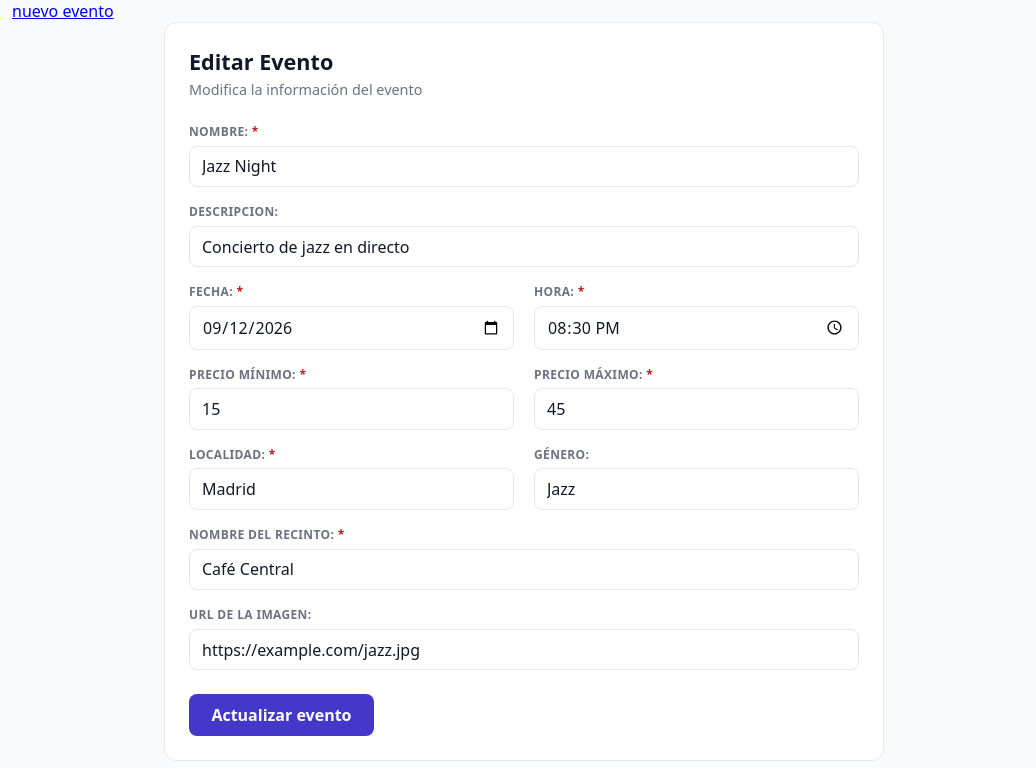
EventForm › edit mode (route with :id) › submits the changes through updateEventById, never createEvent, and keeps the values
This screenshot has width=1036, height=768.
Replace the text in the field labelled "Nombre:" with "Jazz Night XL". click: (524, 166)
box: [189,146,859,187]
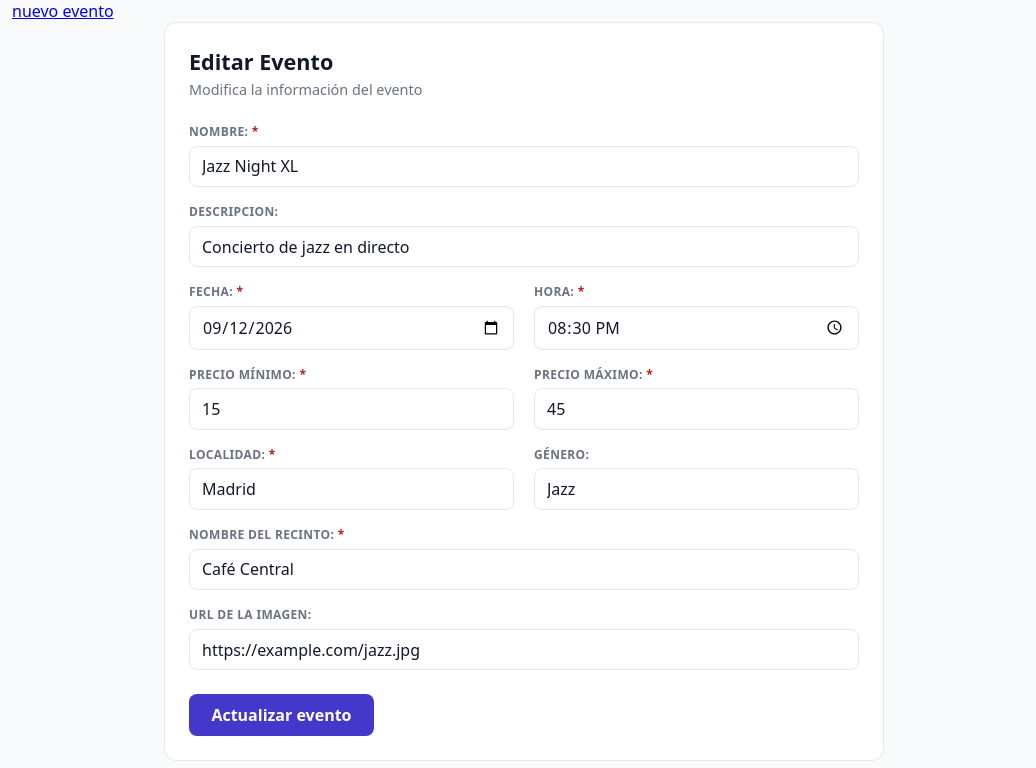
Click the button "Actualizar evento". click: (281, 715)
box: [189,694,374,736]
(page scrolled)
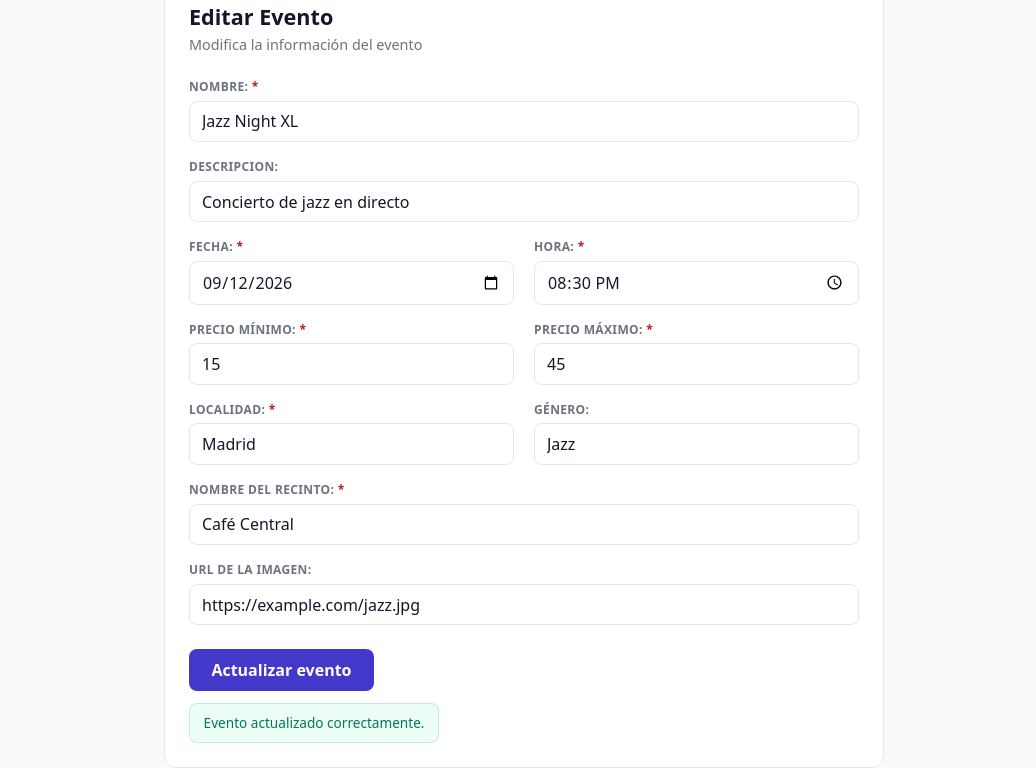
Expected: the message reads "Evento actualizado correctamente.", [189,702,439,743]
